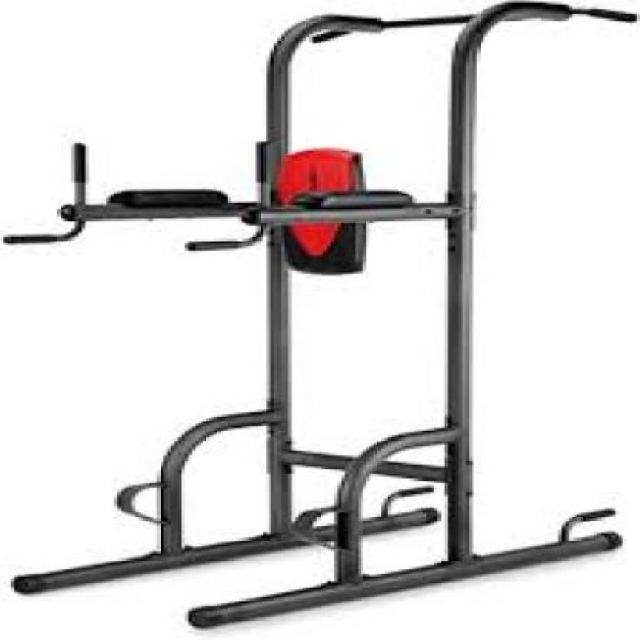chinning dipping: (4, 0, 624, 626)
